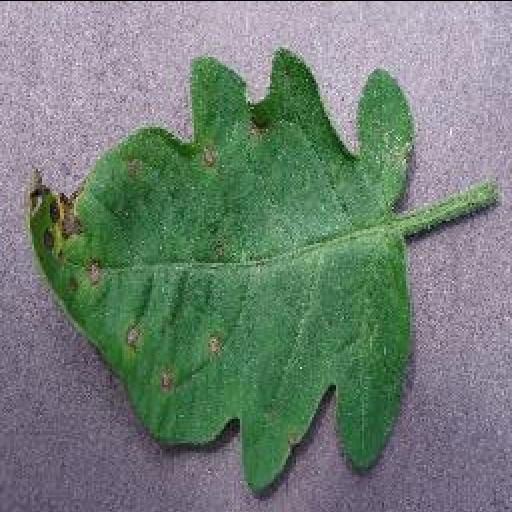disease_tomato: (24, 46, 414, 492)
